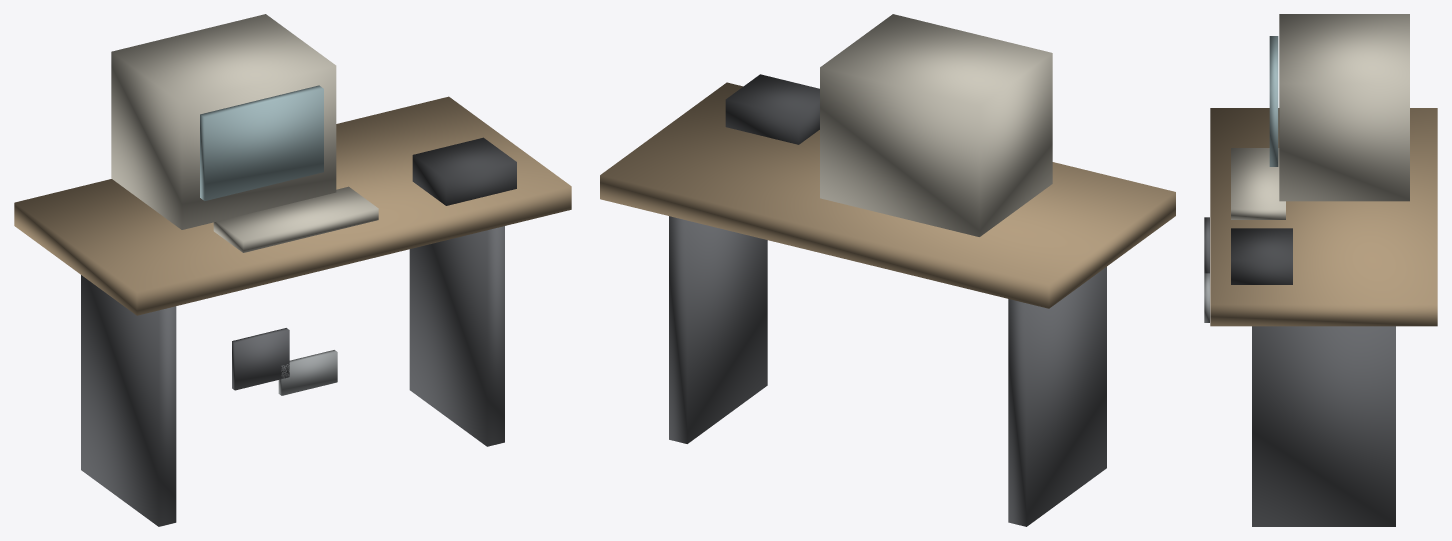
Rendered from crt_workstation__weathered.glb.
3 views of the same model, side by side, from view 1: azimuth 30°, elevation 25°; view 2: azimuth 150°, elevation 25°; view 3: azimuth 270°, elevation 25° (orthographic). The views are drawn at different scales.
Parts seen in each view (by area): view 1: world; view 2: world; view 3: world.
Part boxes in pixels (left/top/right/bottom): world: left=14, top=14, right=571, bottom=526; world: left=600, top=14, right=1175, bottom=526; world: left=1204, top=14, right=1437, bottom=526.
Size of the model in its own units: 1.35 by 1.2 by 0.6775.
